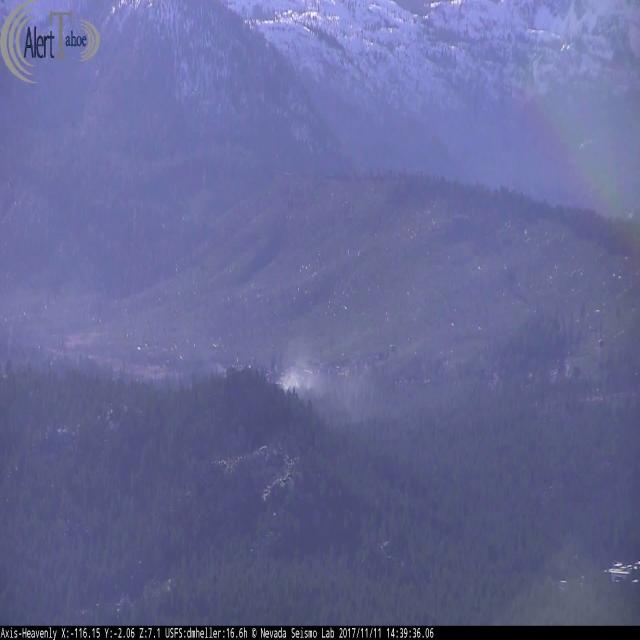smoke: (276, 345, 409, 430), (118, 331, 230, 390)
